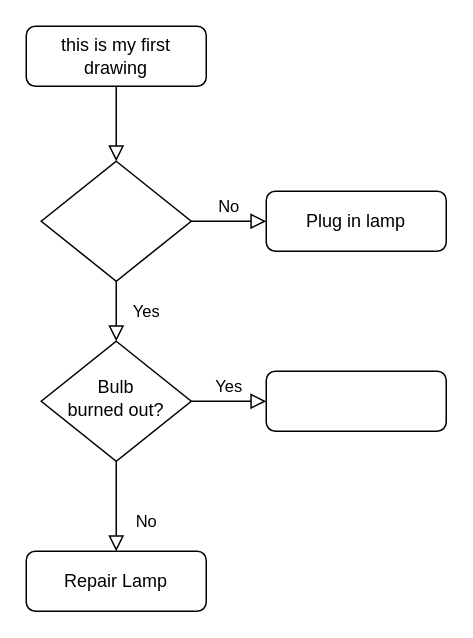
Image size: 473x638. Some labels were removed from this diagram. The centre of each missing label's shape, as x and y in pixels:
Lamp plugged in?: the point at 115,220
Replace Bulb: the point at 355,400
